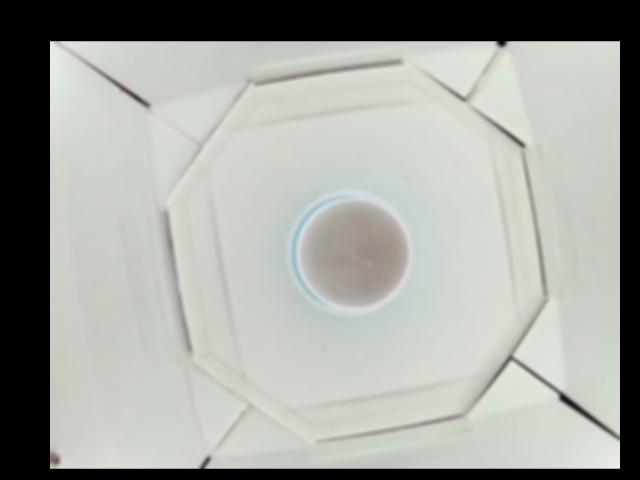Cup: (287, 188, 412, 311)
